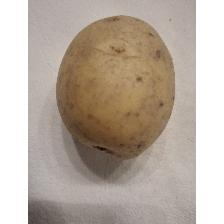Kartoffel: (55, 14, 178, 162)
